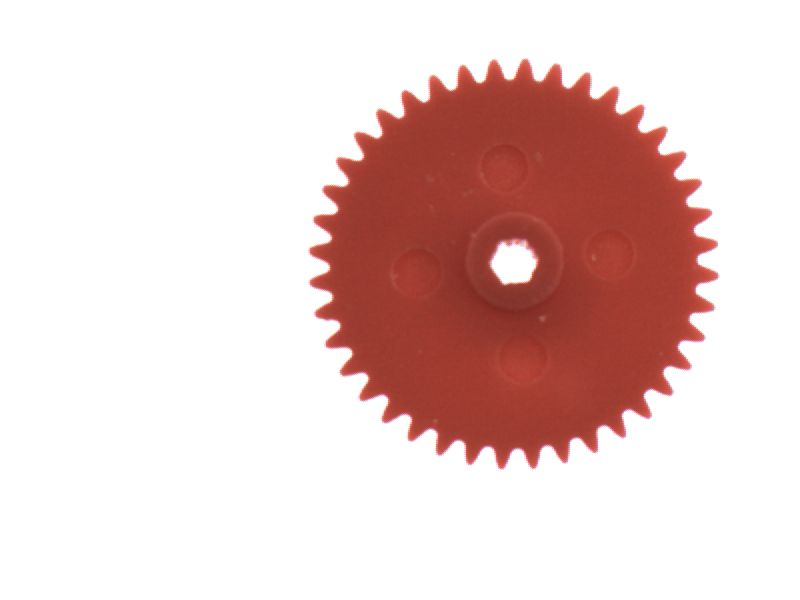good_product: (293, 48, 729, 478)
